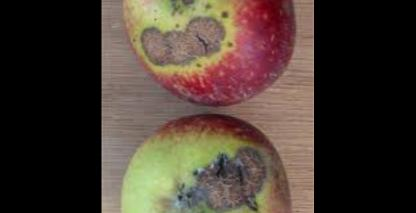defect: (128, 0, 248, 77), (160, 144, 290, 213)
